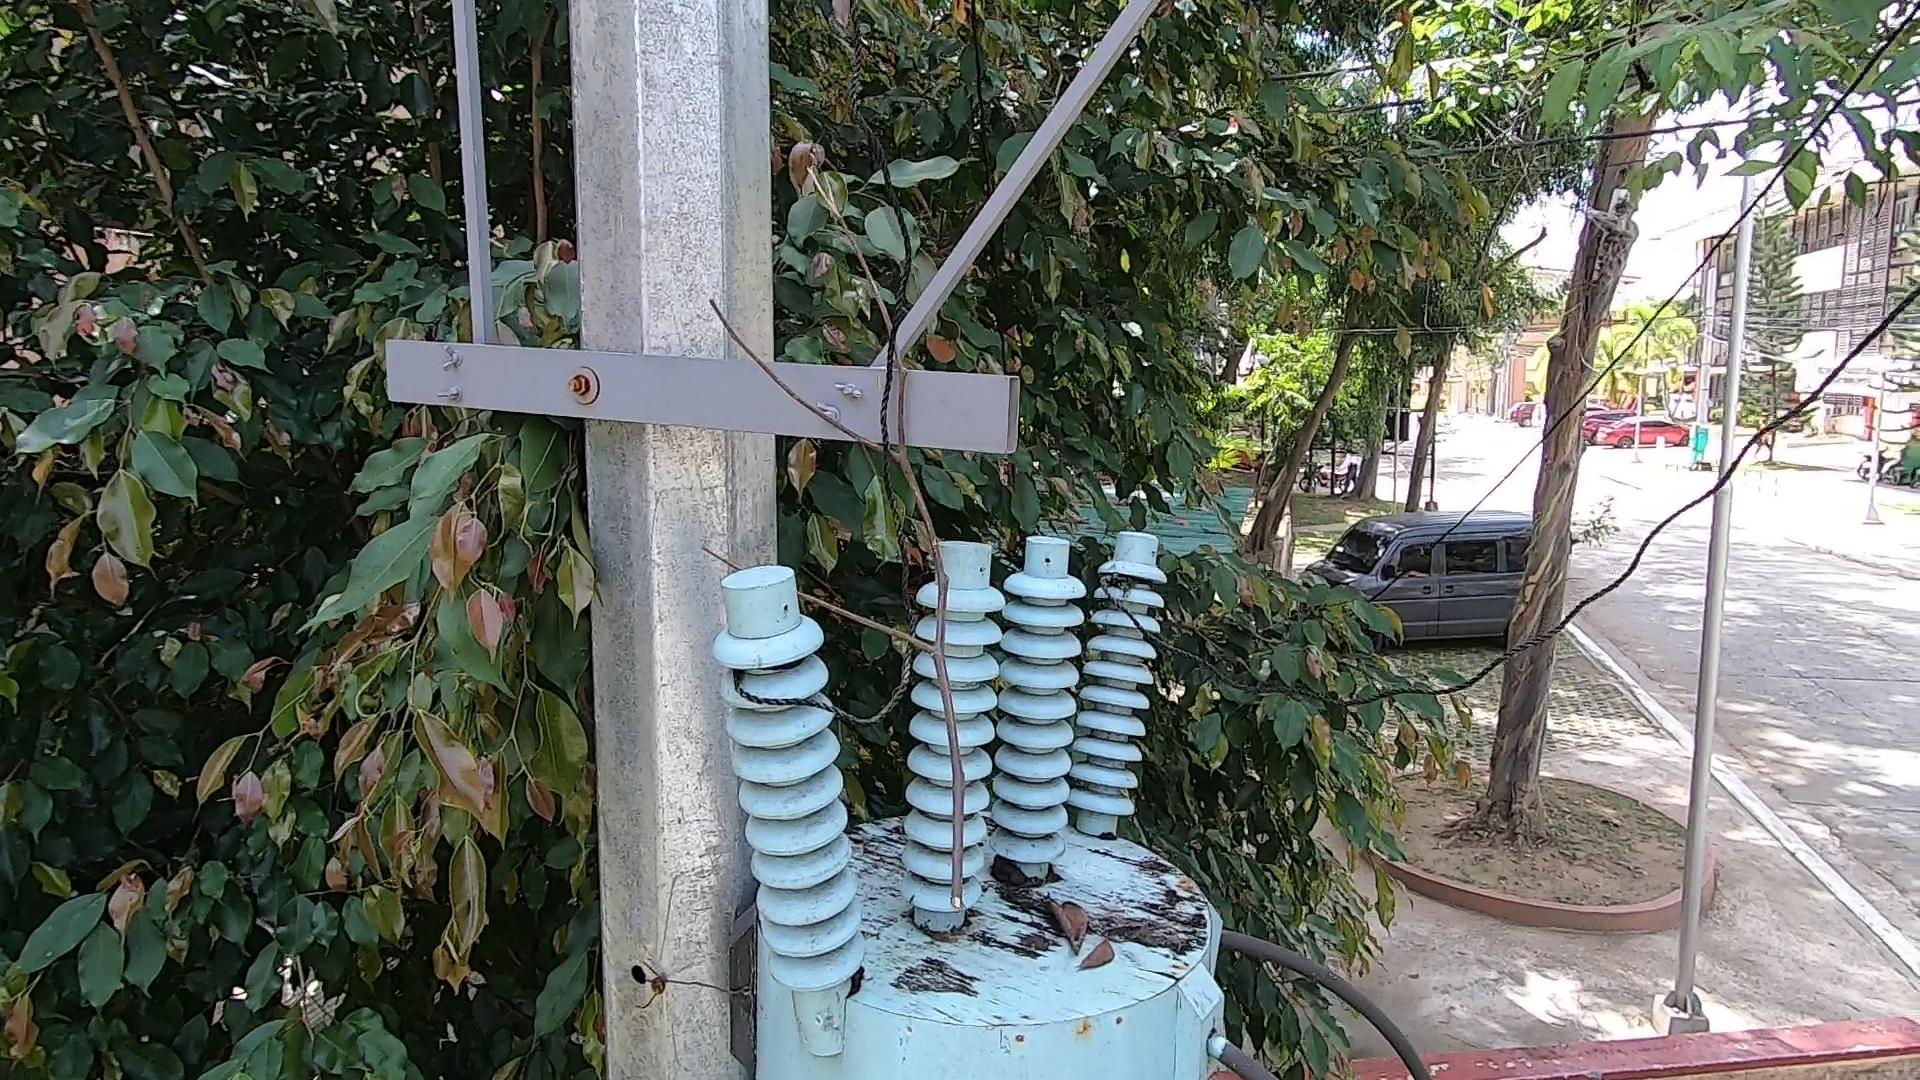leaf: (1035, 889, 1091, 942), (992, 851, 1033, 899), (1073, 930, 1120, 971)
tree branch: (698, 142, 1035, 942)
